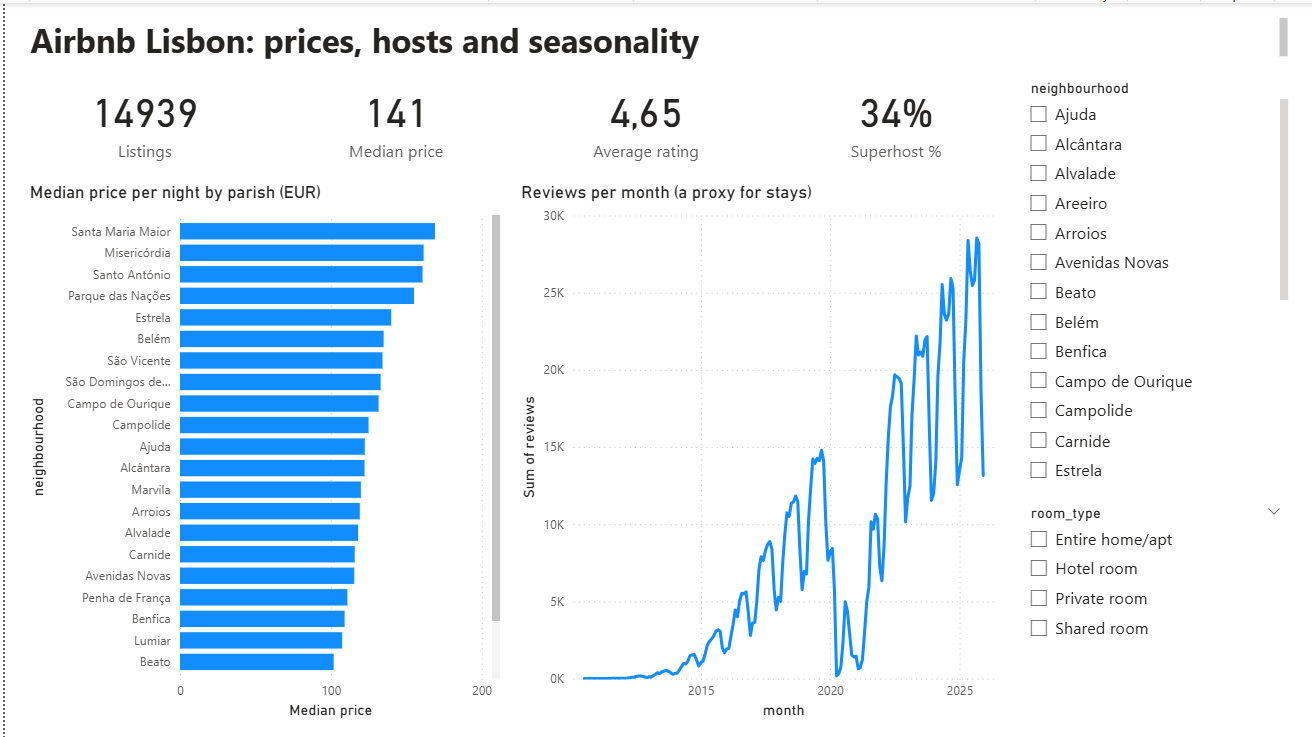

This screenshot's page, from the dashboard's own definition file:
{"tool":"powerbi","page":{"name":"Overview","canvas":[1280,720],"ordinal":0},"visuals":[{"type":"card","fields":{"Values":["listings_lisboa.Listings"]},"box":[20,70,235,90],"z":0},{"type":"card","fields":{"Values":["listings_lisboa.Median price"]},"box":[265,70,235,90],"z":1000},{"type":"card","fields":{"Values":["listings_lisboa.Average rating"]},"box":[510,70,235,90],"z":2000},{"type":"card","fields":{"Values":["listings_lisboa.Superhost %"]},"box":[755,70,235,90],"z":3000},{"type":"barChart","title":"Median price per night by parish (EUR)","fields":{"Category":["listings_lisboa.neighbourhood"],"Y":["listings_lisboa.Median price"]},"box":[20,175,470,530],"z":4000},{"type":"lineChart","title":"Reviews per month (a proxy for stays)","fields":{"Y":["Sum(reviews_monthly.reviews)"],"Category":["reviews_monthly.month"]},"box":[500,175,475,530],"z":5000},{"type":"slicer","fields":{"Values":["listings_lisboa.neighbourhood"]},"box":[990,70,270,400],"z":6000},{"type":"slicer","fields":{"Values":["listings_lisboa.room_type"]},"box":[990,485,270,220],"z":7000},{"type":"textbox","box":[20,10,1240,50],"z":8000}]}

Visuals, with their boxes in screenshot pixels (x1, y1, x2, y2), scaled from the page's 1280x720 canvas onto the 1312x737 screenshot:
card - listings_lisboa.Listings: 20/72/261/164
card - listings_lisboa.Median price: 272/72/512/164
card - listings_lisboa.Average rating: 523/72/764/164
card - listings_lisboa.Superhost %: 774/72/1015/164
"Median price per night by parish (EUR)" barChart: 20/179/502/722
"Reviews per month (a proxy for stays)" lineChart: 512/179/999/722
slicer - listings_lisboa.neighbourhood: 1015/72/1292/481
slicer - listings_lisboa.room_type: 1015/496/1292/722
textbox: 20/10/1292/61
